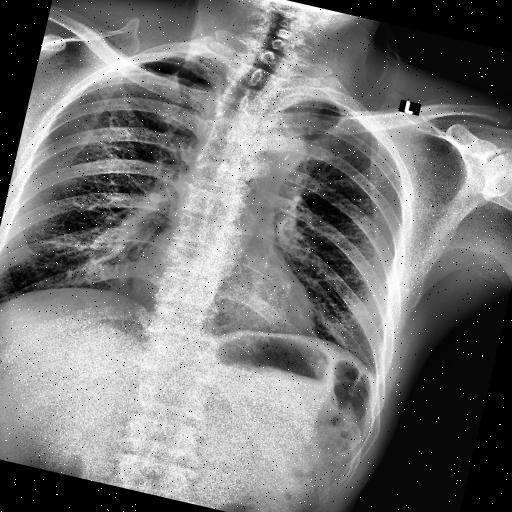0- Aortic enlargement: (238, 108, 318, 188), (237, 113, 311, 177), (232, 112, 308, 170)
